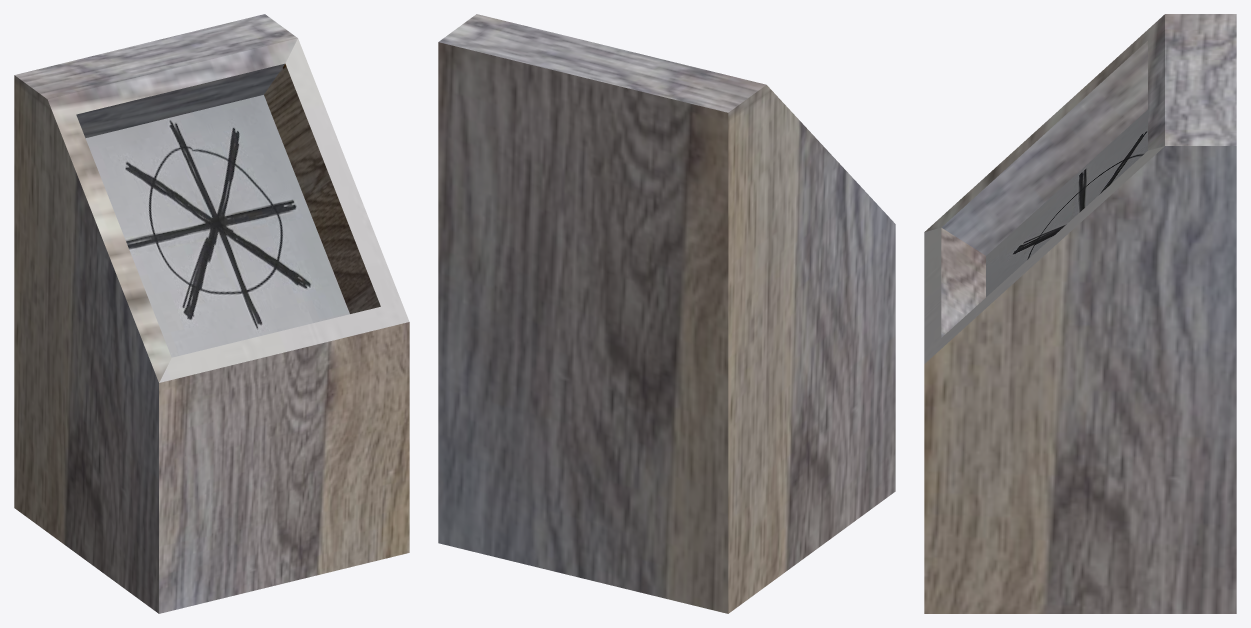
The model's file is sym_pillar03.obj.
3 renders of one model, left to right at view 1: azimuth 30°, elevation 25°; view 2: azimuth 150°, elevation 25°; view 3: azimuth 270°, elevation 25°, orthographic. The views are drawn at different scales.
Parts seen in each view (by area): view 1: Cube.019; view 2: Cube.019; view 3: Cube.019.
Part boxes in pixels (x1=…): Cube.019: x1=14, y1=14, x2=409, y2=613; Cube.019: x1=438, y1=14, x2=895, y2=613; Cube.019: x1=924, y1=14, x2=1236, y2=613.
Bounding box in the file's own units: 0.7332 × 1.21 × 0.7332.
